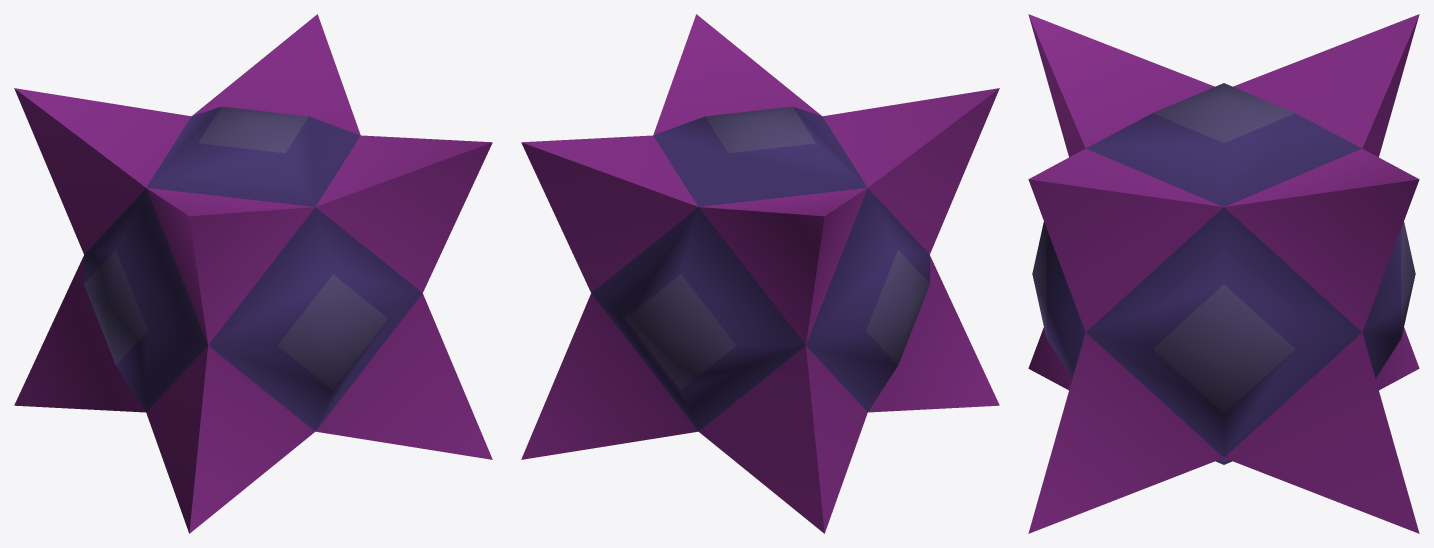
The model's file is SpikeBall.fbx.
3 views of the same model, side by side, from view 1: azimuth 30°, elevation 25°; view 2: azimuth 150°, elevation 25°; view 3: azimuth 270°, elevation 25° (orthographic). The views are drawn at different scales.
Parts seen in each view (by area): view 1: pCube1; view 2: pCube1; view 3: pCube1.
Part boxes in pixels (x1,y1,x2,y2): pCube1: [14, 14, 492, 533]; pCube1: [521, 14, 999, 533]; pCube1: [1028, 14, 1419, 533].
Bounding box in the file's own units: 5.27 × 5.27 × 5.27.
